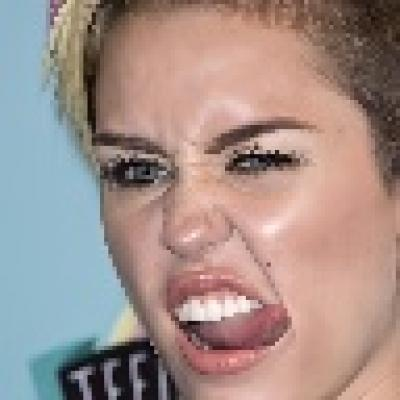angry: (86, 13, 386, 386)
